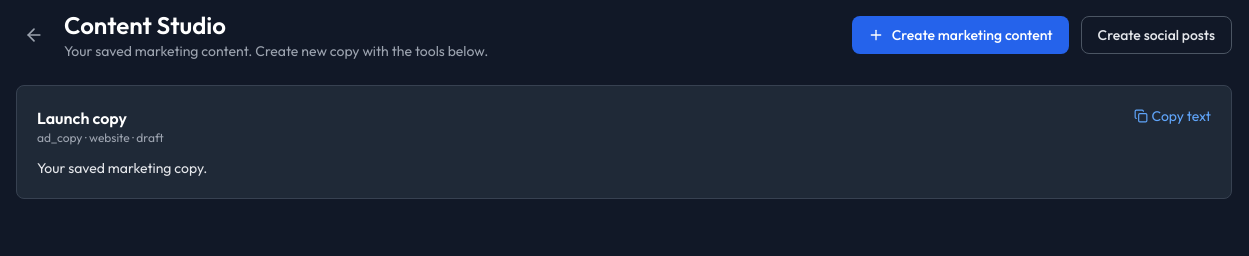
Content Studio saved library › reports clipboard failure and retains the text for manual copying
The image size is (1249, 256).
Click the button "Copy text" at [1172, 116], box 1134,106 -> 1211,126
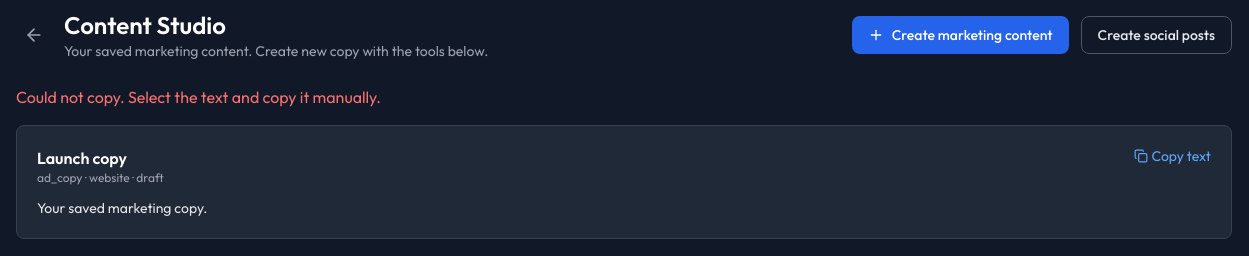
Expected: the text "Your saved marketing copy." is shown, 37,199 -> 207,217
Now the message shows "copy it manually", box 16,87 -> 381,107
